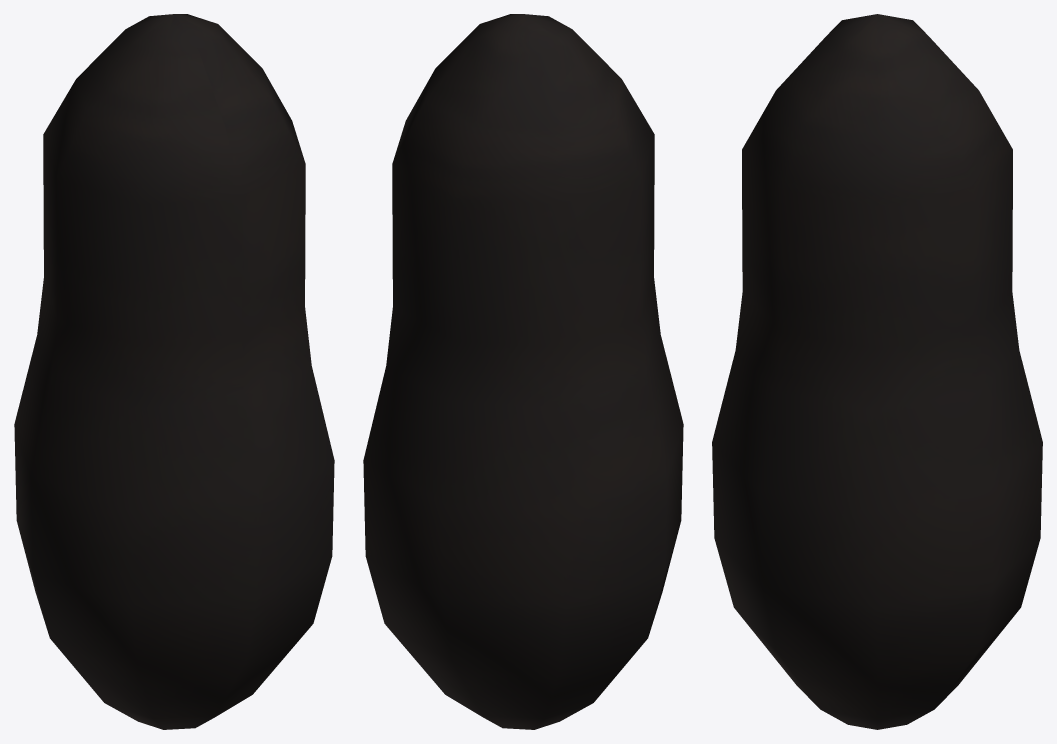
Rendered from hair_nub.fbx.
The picture shows the model from 3 angles, left to right: view 1: azimuth 30°, elevation 25°; view 2: azimuth 150°, elevation 25°; view 3: azimuth 270°, elevation 25°; orthographic projection.
Visible parts, largest first — view 1: hair_nub; view 2: hair_nub; view 3: hair_nub.
Boxes of the visible parts, x1,y1,x2,y2 form: hair_nub: (14, 14, 334, 729); hair_nub: (363, 14, 683, 729); hair_nub: (712, 14, 1042, 729).
Size of the model in its own units: 2.29 by 5.34 by 2.29.
